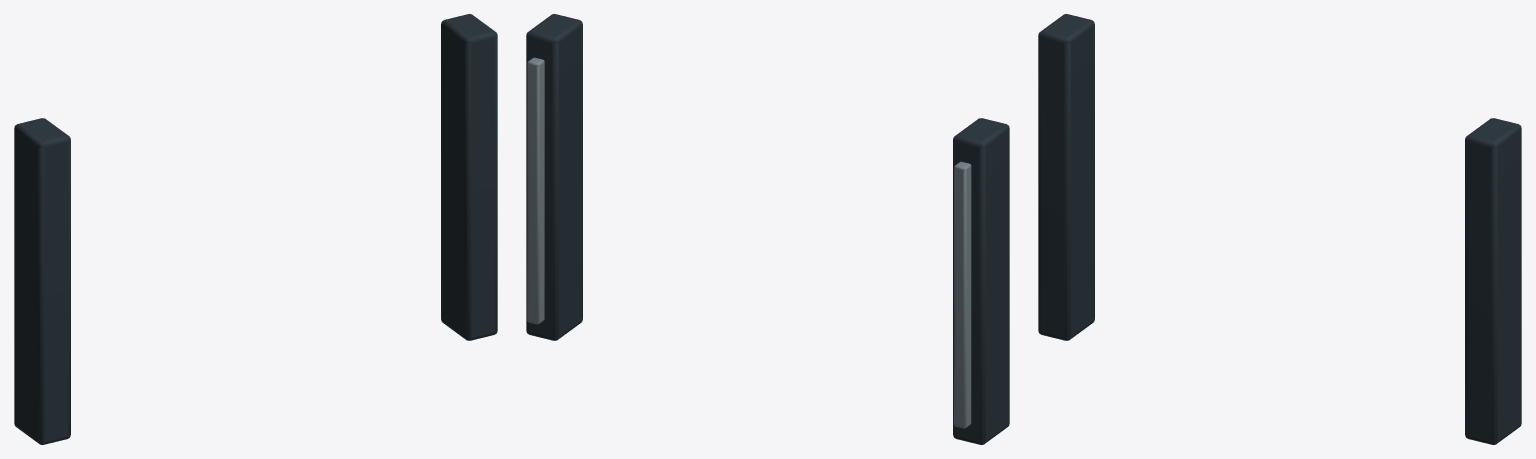
Rendered from SM_Mech_DockMaterialMount.fbx.
3 views of the same model, side by side, from view 1: azimuth 30°, elevation 25°; view 2: azimuth 150°, elevation 25°; view 3: azimuth 330°, elevation 25° (orthographic).
Visible parts, largest first — view 1: SM_Mech_DockMaterialMount; view 2: SM_Mech_DockMaterialMount; view 3: SM_Mech_DockMaterialMount.
Part boxes in pixels (x1,y1,x2,y2): SM_Mech_DockMaterialMount: (14, 14, 497, 444); SM_Mech_DockMaterialMount: (526, 14, 1009, 444); SM_Mech_DockMaterialMount: (1038, 14, 1521, 444).
Bounding box in the file's own units: 114 × 15.5 × 72.
